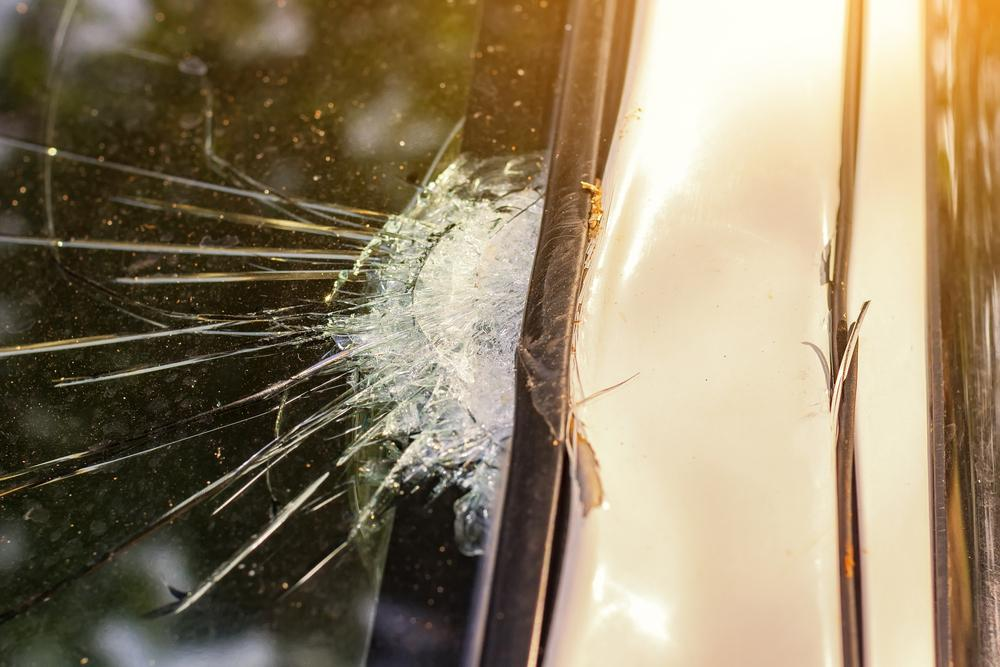dent: (593, 93, 839, 666)
glass shatter: (0, 0, 579, 667)
